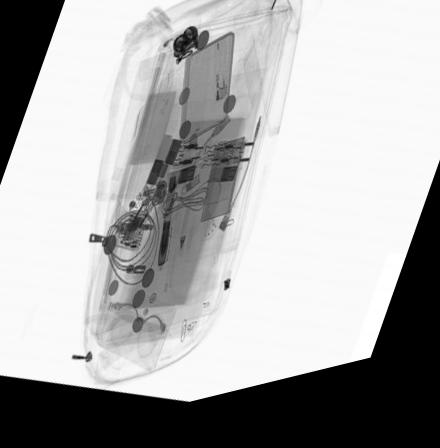Lighter: (212, 44, 227, 114)
